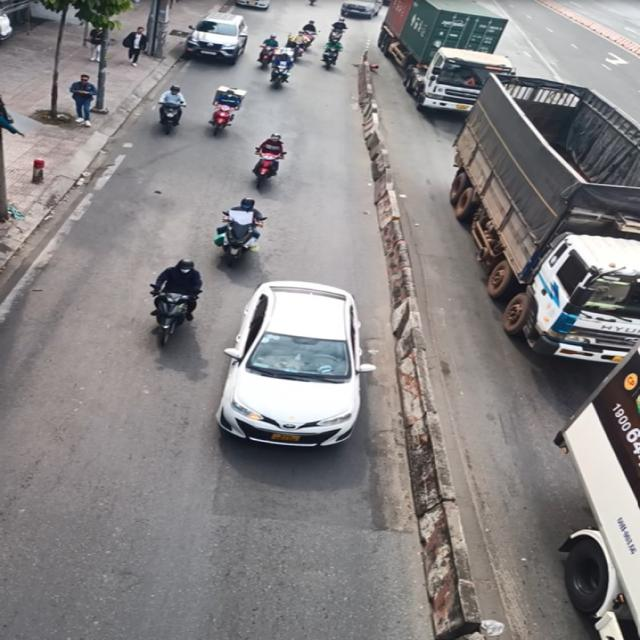car: (219, 273, 383, 463), (180, 9, 251, 62)
motor: (205, 192, 275, 276), (142, 250, 196, 352), (248, 129, 298, 195), (148, 82, 198, 138)
